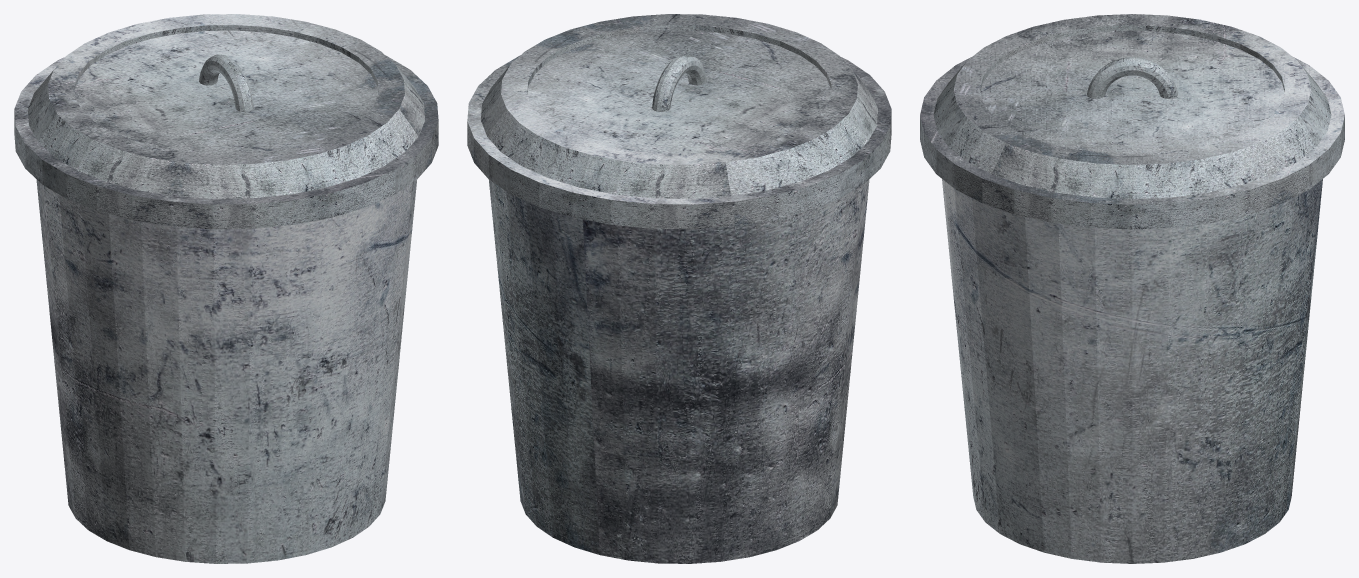
File: lixo.gltf
3 renders of one model, left to right at view 1: azimuth 30°, elevation 25°; view 2: azimuth 150°, elevation 25°; view 3: azimuth 270°, elevation 25°, orthographic.
Parts seen in each view (by area): view 1: Cylinder, Cylinder.001; view 2: Cylinder, Cylinder.001; view 3: Cylinder, Cylinder.001.
Part boxes in pixels (left/top/right/bottom): Cylinder: left=36, top=179, right=417, bottom=563; Cylinder.001: left=14, top=14, right=438, bottom=229; Cylinder: left=488, top=179, right=869, bottom=563; Cylinder.001: left=467, top=14, right=891, bottom=229; Cylinder: left=942, top=179, right=1322, bottom=563; Cylinder.001: left=920, top=14, right=1344, bottom=229.
Size of the model in its own units: 2.67 by 3.04 by 2.67.
Materials: 1 (1 with a texture image).
